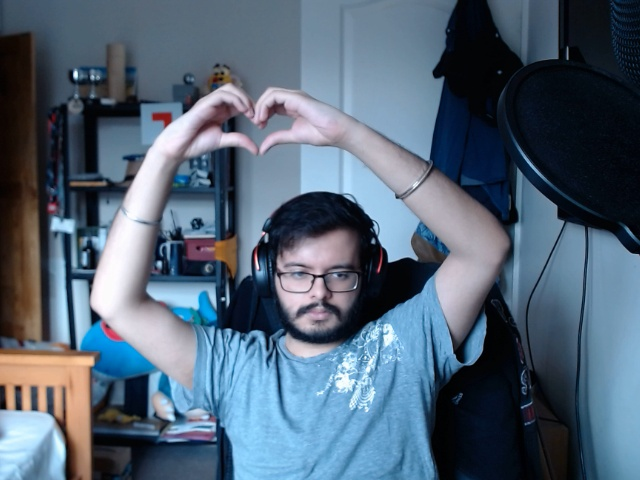Heart: (181, 74, 334, 168)
